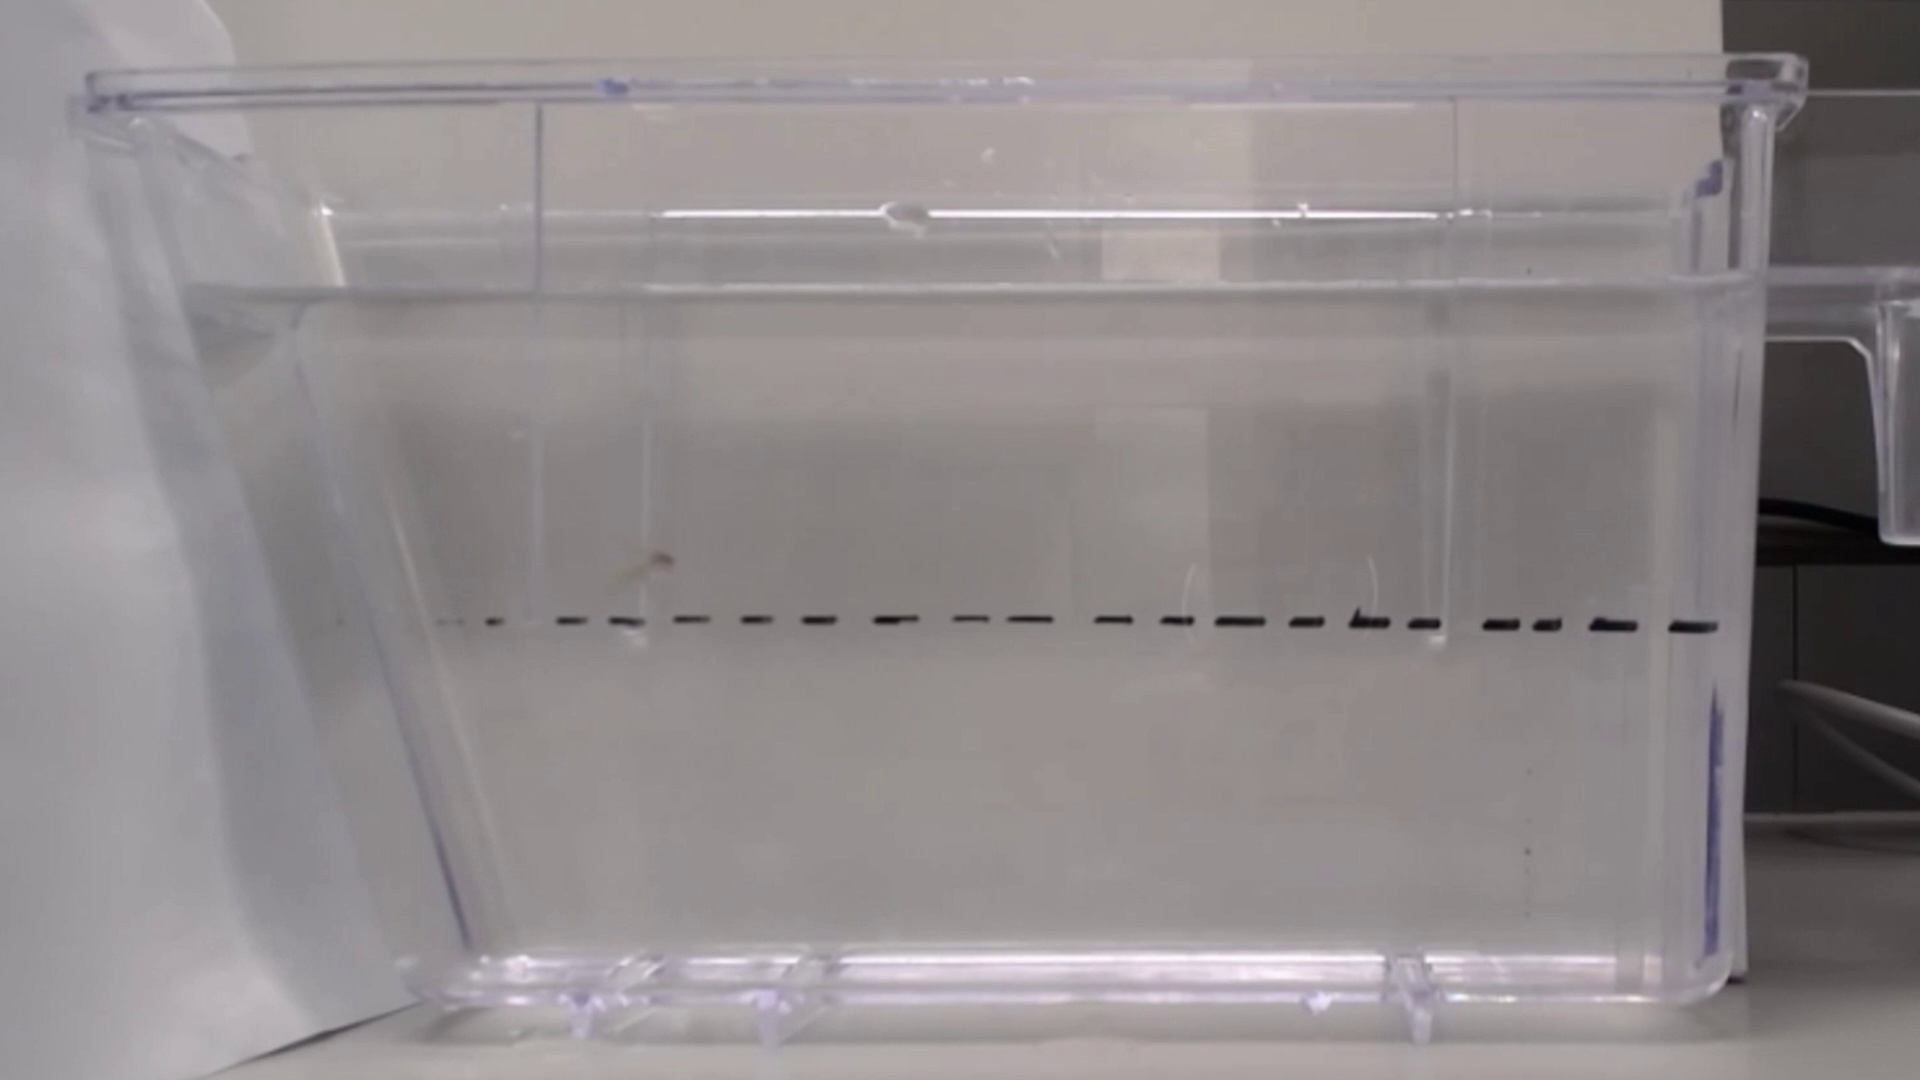zebrafish: (616, 530, 692, 601)
